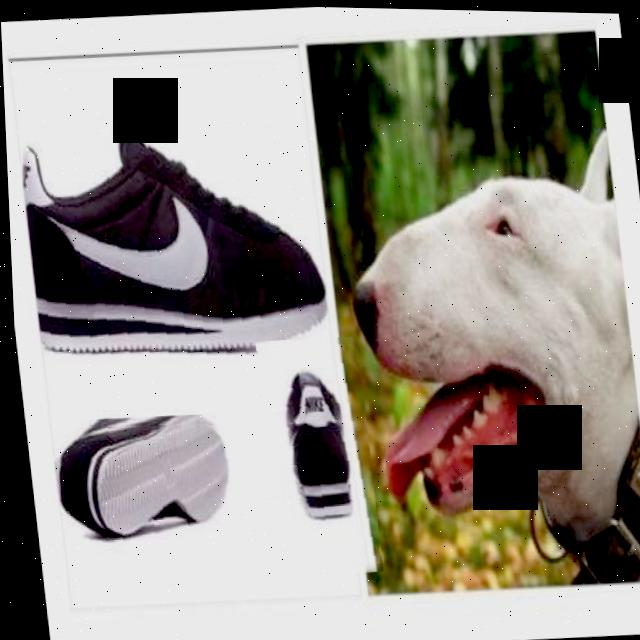shoe: (11, 74, 337, 426), (52, 413, 273, 580), (252, 332, 379, 579)
